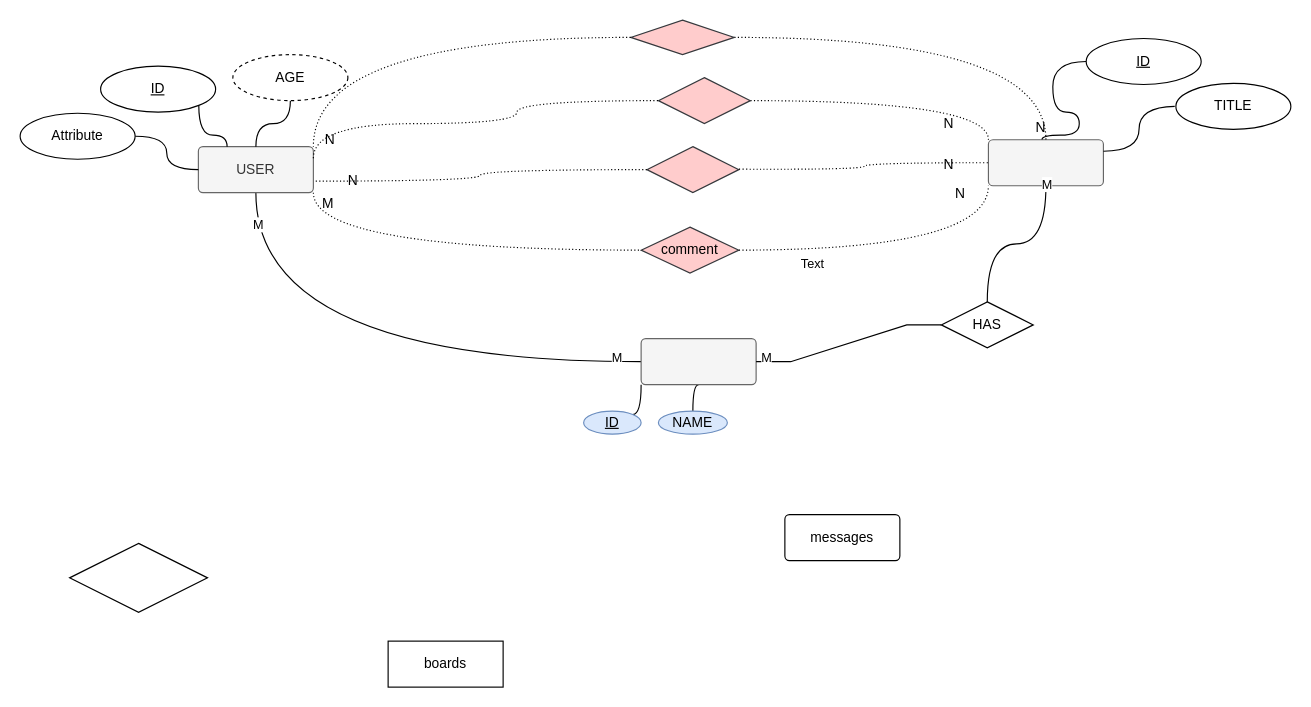
The diagram is 1311 pixels wide and 707 high, and some of its shapes have lost their labels. The centre of each missing label's shape, as x and y in pixels:
"follows" goes at point (138, 577).
"MAKES" goes at point (703, 100).
"PINS" goes at point (1045, 162).
"react" goes at point (682, 37).
"SAVE" goes at point (692, 169).
"TOPICS" goes at point (698, 361).
